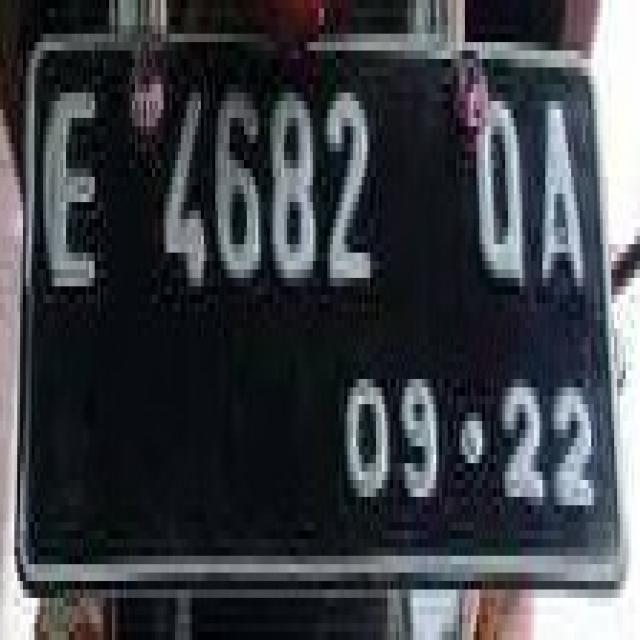plate: (17, 17, 623, 589)
